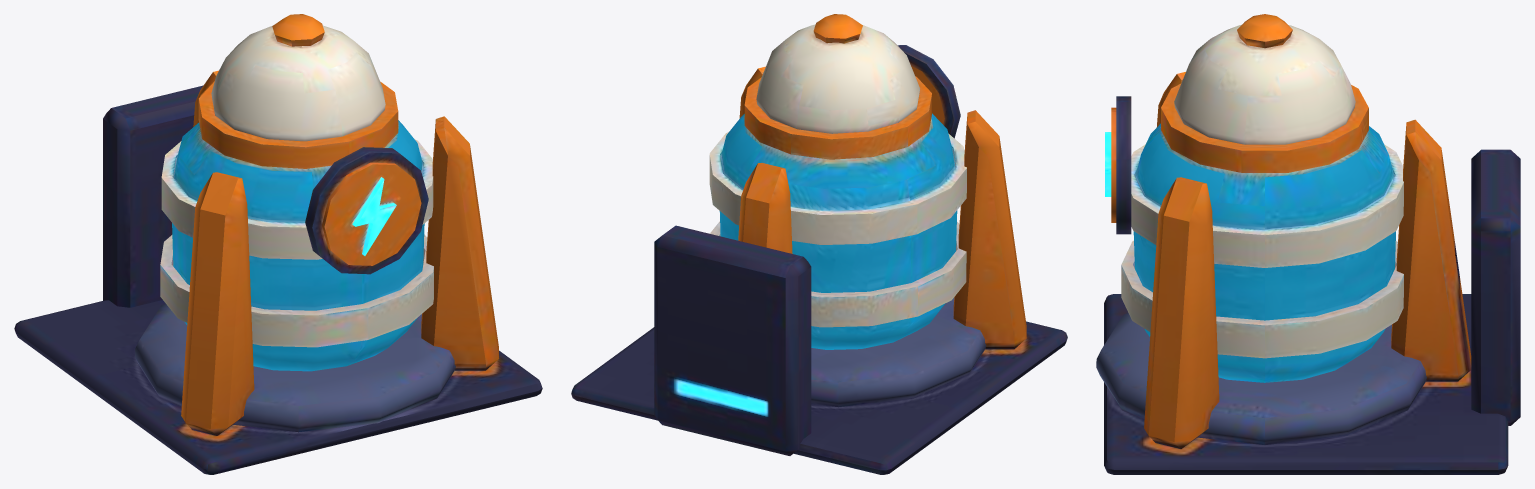
Rendered from R4X_Battery_LOD1.glb.
3 renders of one model, left to right at view 1: azimuth 30°, elevation 25°; view 2: azimuth 150°, elevation 25°; view 3: azimuth 270°, elevation 25°, orthographic. The views are drawn at different scales.
Visible parts, largest first — view 1: R4X_Battery_LOD1; view 2: R4X_Battery_LOD1; view 3: R4X_Battery_LOD1.
Part boxes in pixels (left/top/right/bottom): R4X_Battery_LOD1: left=14, top=14, right=542, bottom=474; R4X_Battery_LOD1: left=571, top=14, right=1067, bottom=474; R4X_Battery_LOD1: left=1096, top=14, right=1520, bottom=474.
Bounding box in the file's own units: 0.49 × 0.498 × 0.5144.
Materials: 4 (4 with a texture image).
